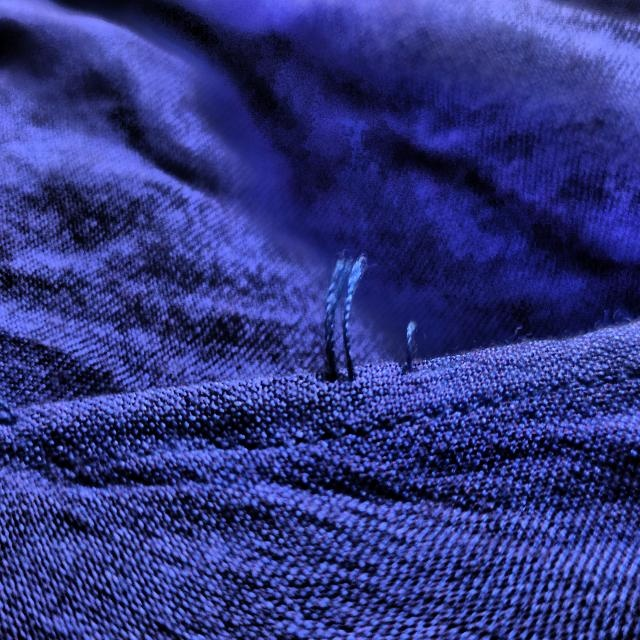Stitch: (238, 195, 478, 443)
